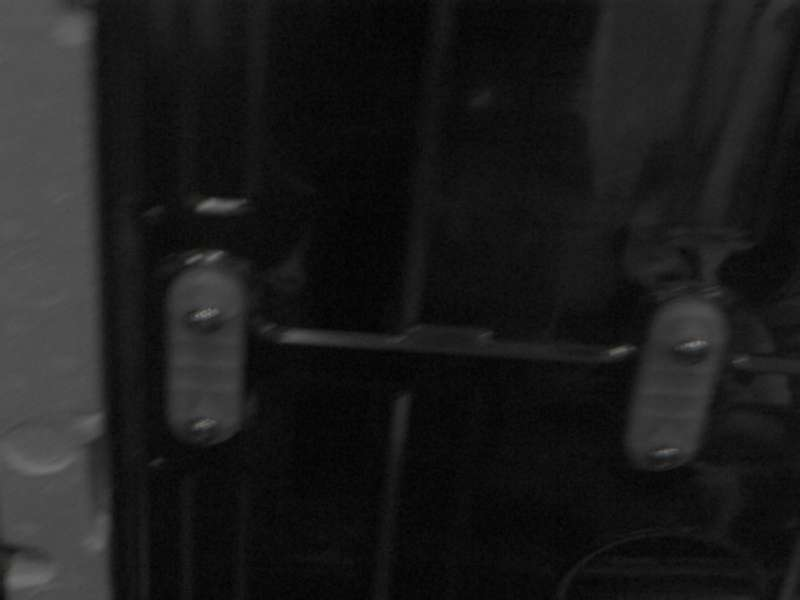screw: (184, 306, 224, 333), (672, 338, 711, 364), (186, 417, 220, 445), (647, 447, 683, 471)
